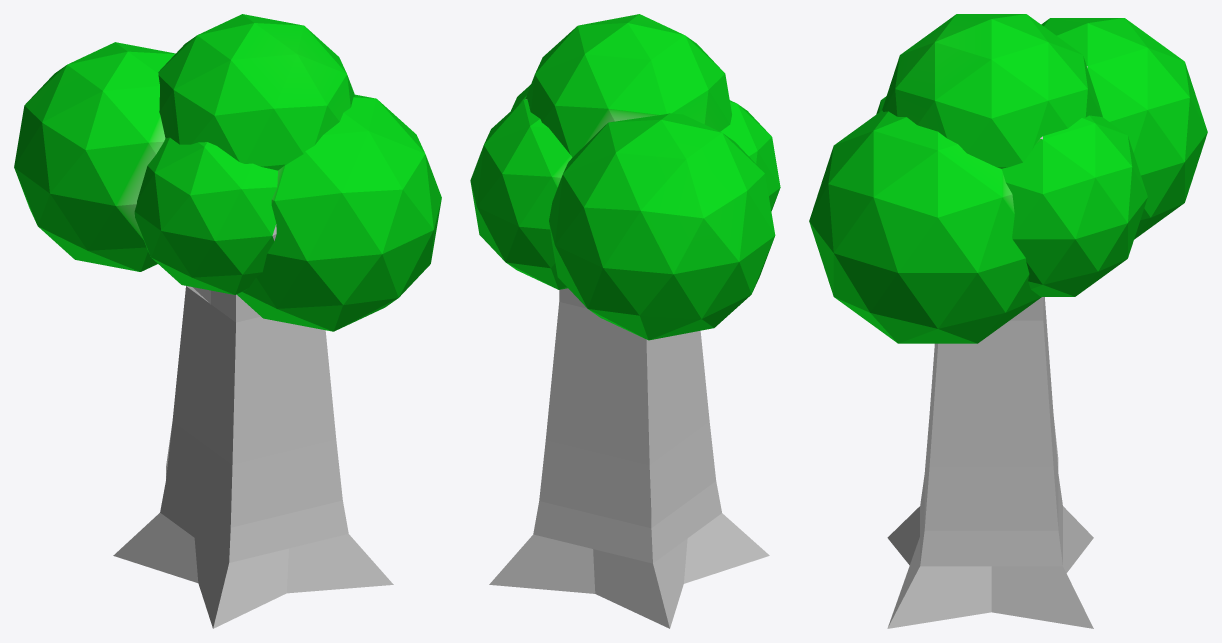
Rendered from Tree.fbx.
3 views of the same model, side by side, from view 1: azimuth 30°, elevation 25°; view 2: azimuth 150°, elevation 25°; view 3: azimuth 270°, elevation 25° (orthographic). The views are drawn at different scales.
Parts seen in each view (by area): view 1: Icosphere.001; view 2: Icosphere.001; view 3: Icosphere.001.
Part boxes in pixels (x1,y1,x2,y2): Icosphere.001: [14, 14, 441, 628]; Icosphere.001: [470, 14, 780, 628]; Icosphere.001: [809, 14, 1207, 628].
Bounding box in the file's own units: 5.68 × 9.32 × 5.96.
